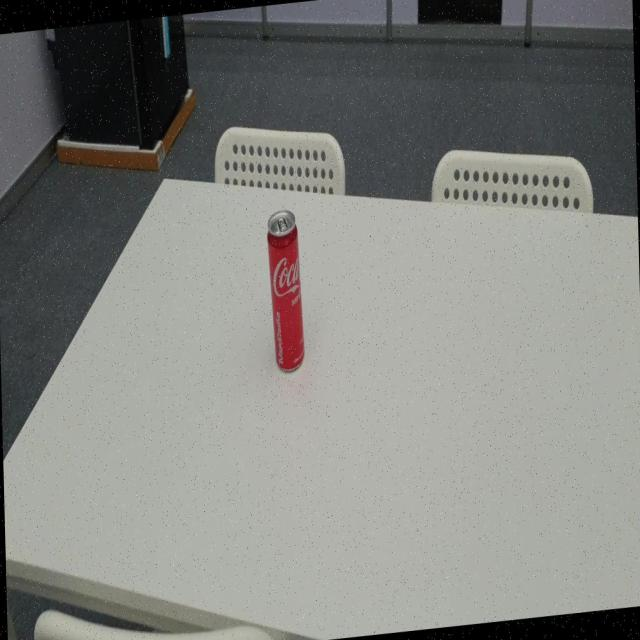coca-cola: (266, 203, 306, 380)
